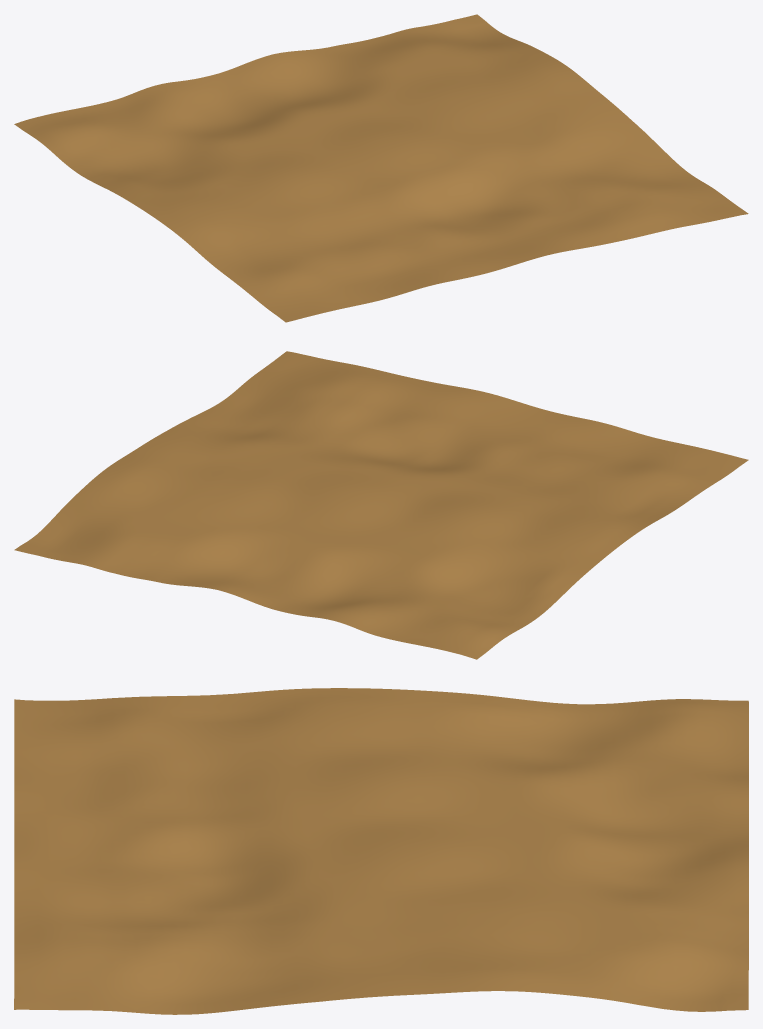
File: terre_carre12.fbx
3 renders of one model, top to bottom at view 1: azimuth 30°, elevation 25°; view 2: azimuth 150°, elevation 25°; view 3: azimuth 270°, elevation 25°, orthographic. The views are drawn at different scales.
Parts seen in each view (by area): view 1: terre_carre12; view 2: terre_carre12; view 3: terre_carre12.
Boxes of the visible parts, bbox=[...] form: terre_carre12: bbox=[14, 14, 748, 322]; terre_carre12: bbox=[14, 351, 748, 659]; terre_carre12: bbox=[14, 688, 748, 1014].
Bounding box in the file's own units: 708 × 27.82 × 721.
